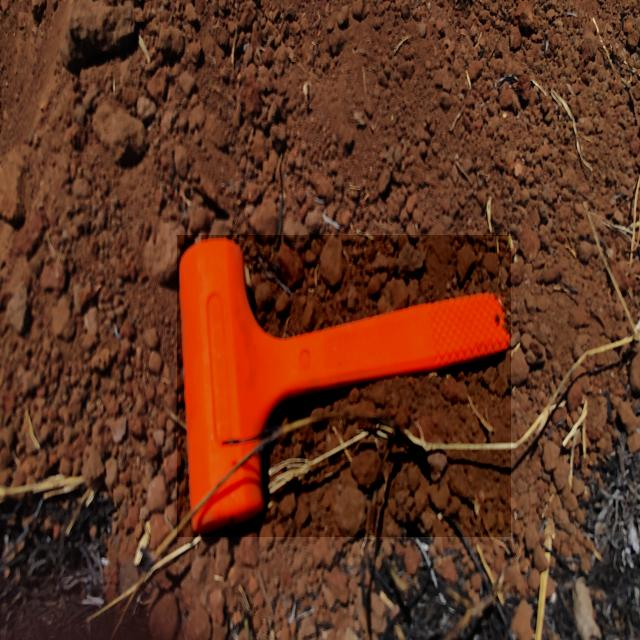Orange_hammer: (177, 235, 511, 537)
